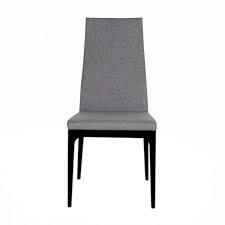chair: (66, 16, 160, 211)
